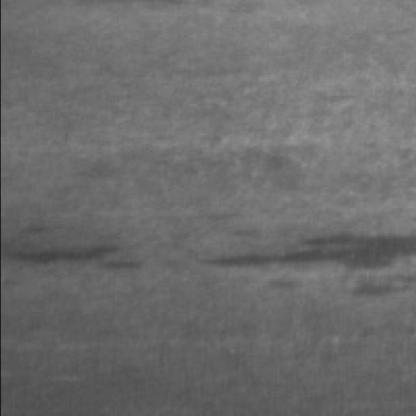inclusion: (187, 218, 410, 285), (0, 231, 144, 281)
